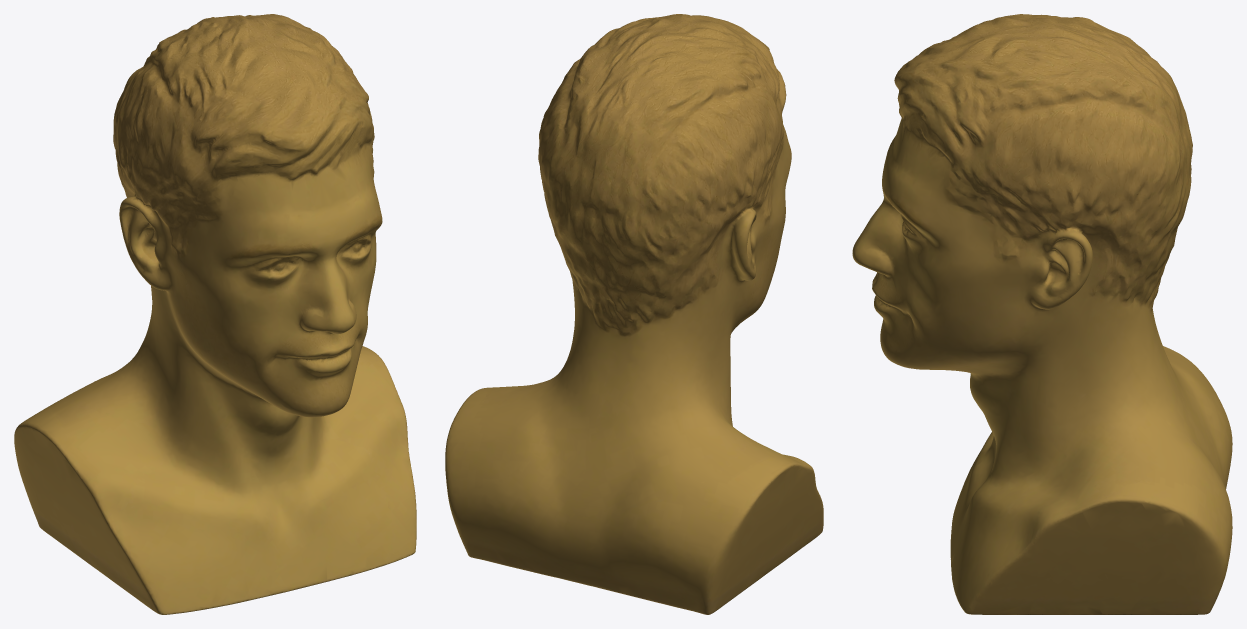
File: davy-jones-lite.glb
The picture shows the model from 3 angles, left to right: view 1: azimuth 30°, elevation 25°; view 2: azimuth 150°, elevation 25°; view 3: azimuth 270°, elevation 25°; orthographic projection. The views are drawn at different scales.
Bounding box in the file's own units: 1.25 × 1.9 × 1.24.
1 material, 1 textured.
